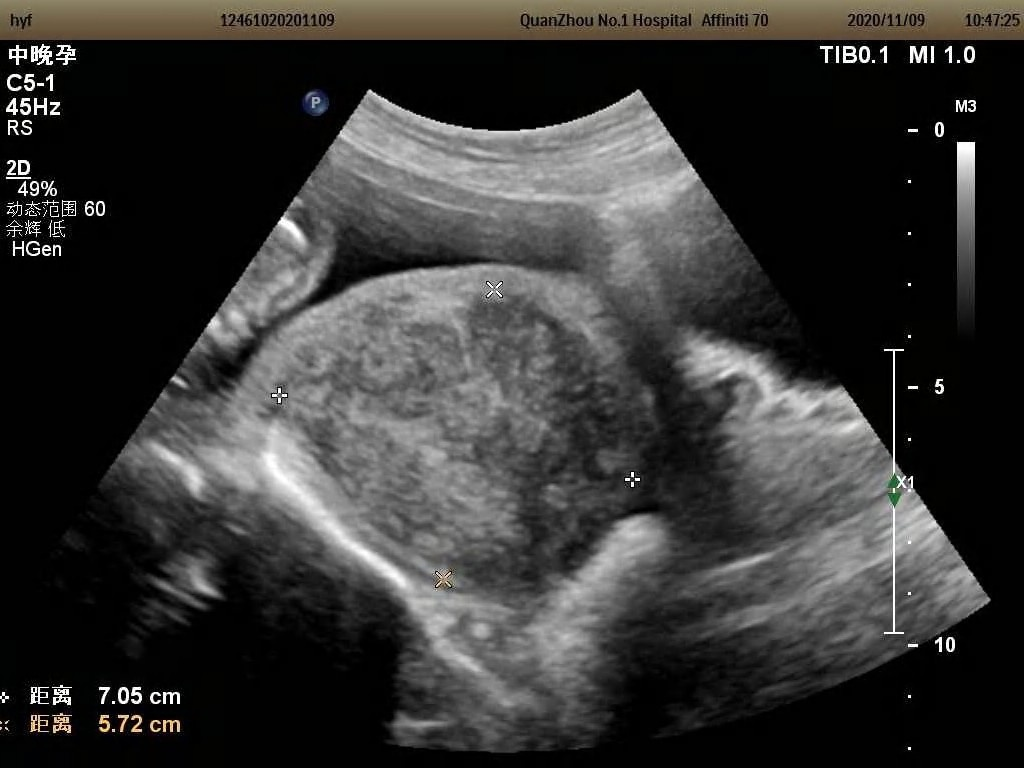肌瘤: (294, 306, 600, 570)
